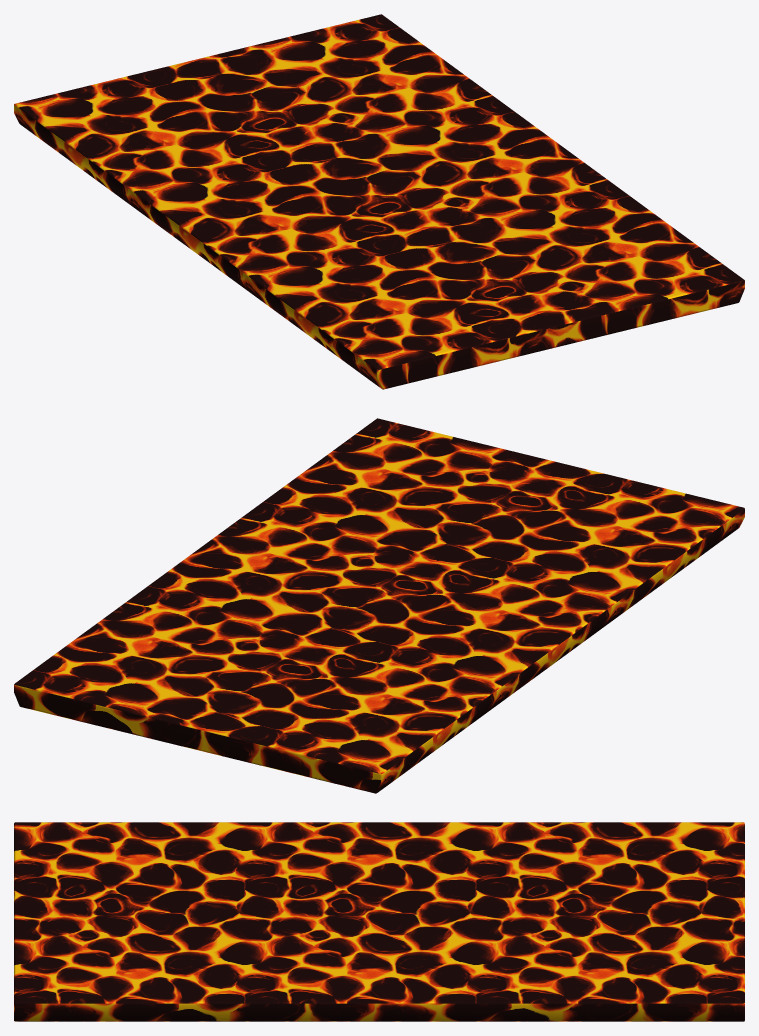
File: platform1.fbx
The picture shows the model from 3 angles, top to bottom: view 1: azimuth 30°, elevation 25°; view 2: azimuth 150°, elevation 25°; view 3: azimuth 270°, elevation 25°; orthographic projection.
Visible parts, largest first — view 1: Cube.006; view 2: Cube.006; view 3: Cube.006.
Part boxes in pixels (left/top/right/bottom): Cube.006: left=14, top=14, right=744, bottom=389; Cube.006: left=14, top=418, right=744, bottom=793; Cube.006: left=14, top=822, right=744, bottom=1021.
Size of the model in its own units: 924 by 53.01 by 1579.
